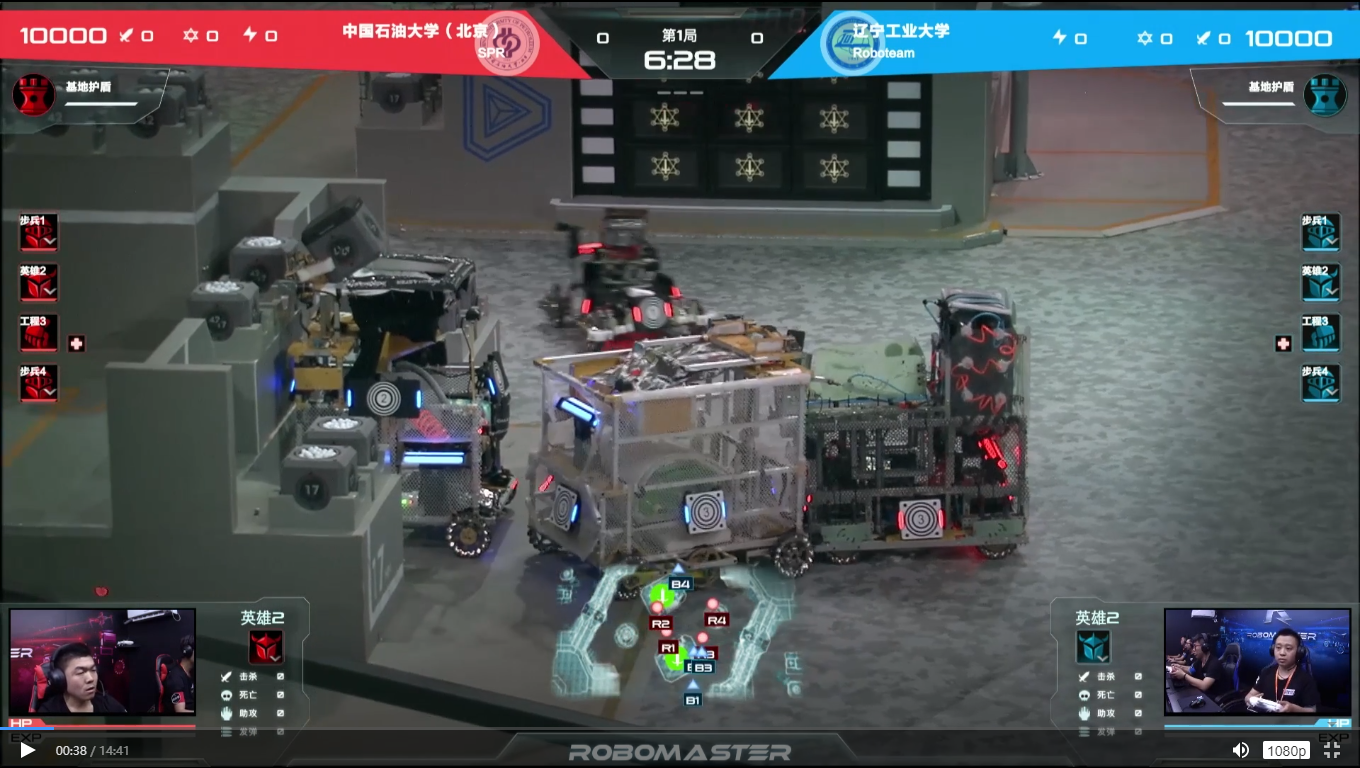box: (283, 196, 395, 281), (278, 439, 372, 511), (185, 278, 273, 345), (302, 411, 402, 465), (219, 234, 296, 292)
